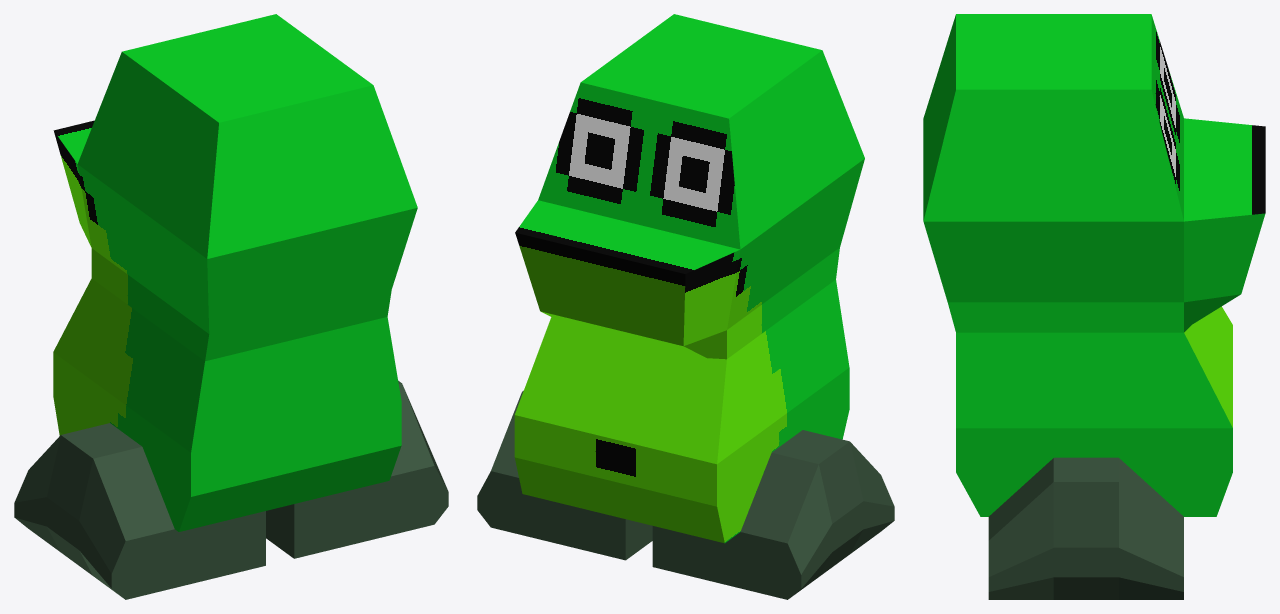
File: schboo.gltf
The picture shows the model from 3 angles, left to right: view 1: azimuth 30°, elevation 25°; view 2: azimuth 150°, elevation 25°; view 3: azimuth 270°, elevation 25°; orthographic projection. The views are drawn at different scales.
Visible parts, largest first — view 1: cuboid; view 2: cuboid; view 3: cuboid.
Boxes of the visible parts, bbox=[...] form: cuboid: bbox=[14, 14, 448, 599]; cuboid: bbox=[477, 14, 894, 599]; cuboid: bbox=[923, 14, 1265, 599].
Bounding box in the file's own units: 0.75 × 1 × 0.6562.
2 materials, 2 textured.
